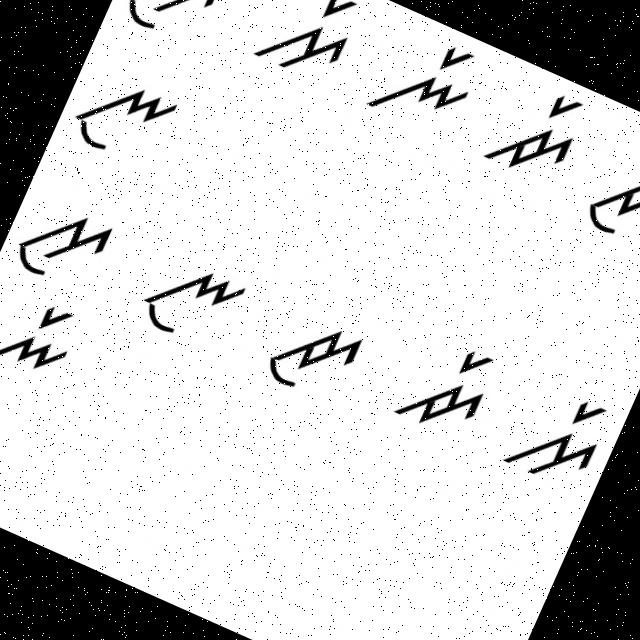jar: (388, 325, 506, 452), (477, 72, 597, 196)
jaw: (258, 298, 372, 412), (572, 144, 639, 263)
nyar: (361, 20, 488, 146), (0, 279, 89, 407)
nyaw: (130, 233, 257, 359), (63, 58, 188, 176)
sar: (498, 376, 618, 506), (246, 0, 375, 95)
saw: (10, 188, 121, 300), (112, 0, 232, 53)
